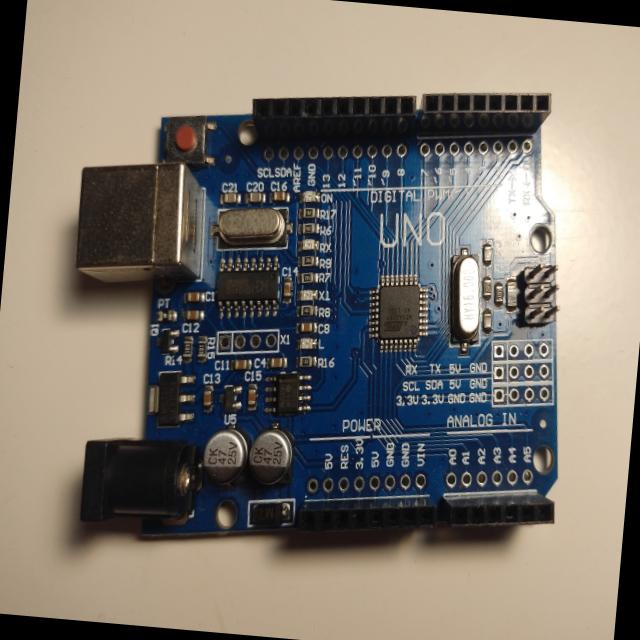arduino: (41, 43, 610, 580)
